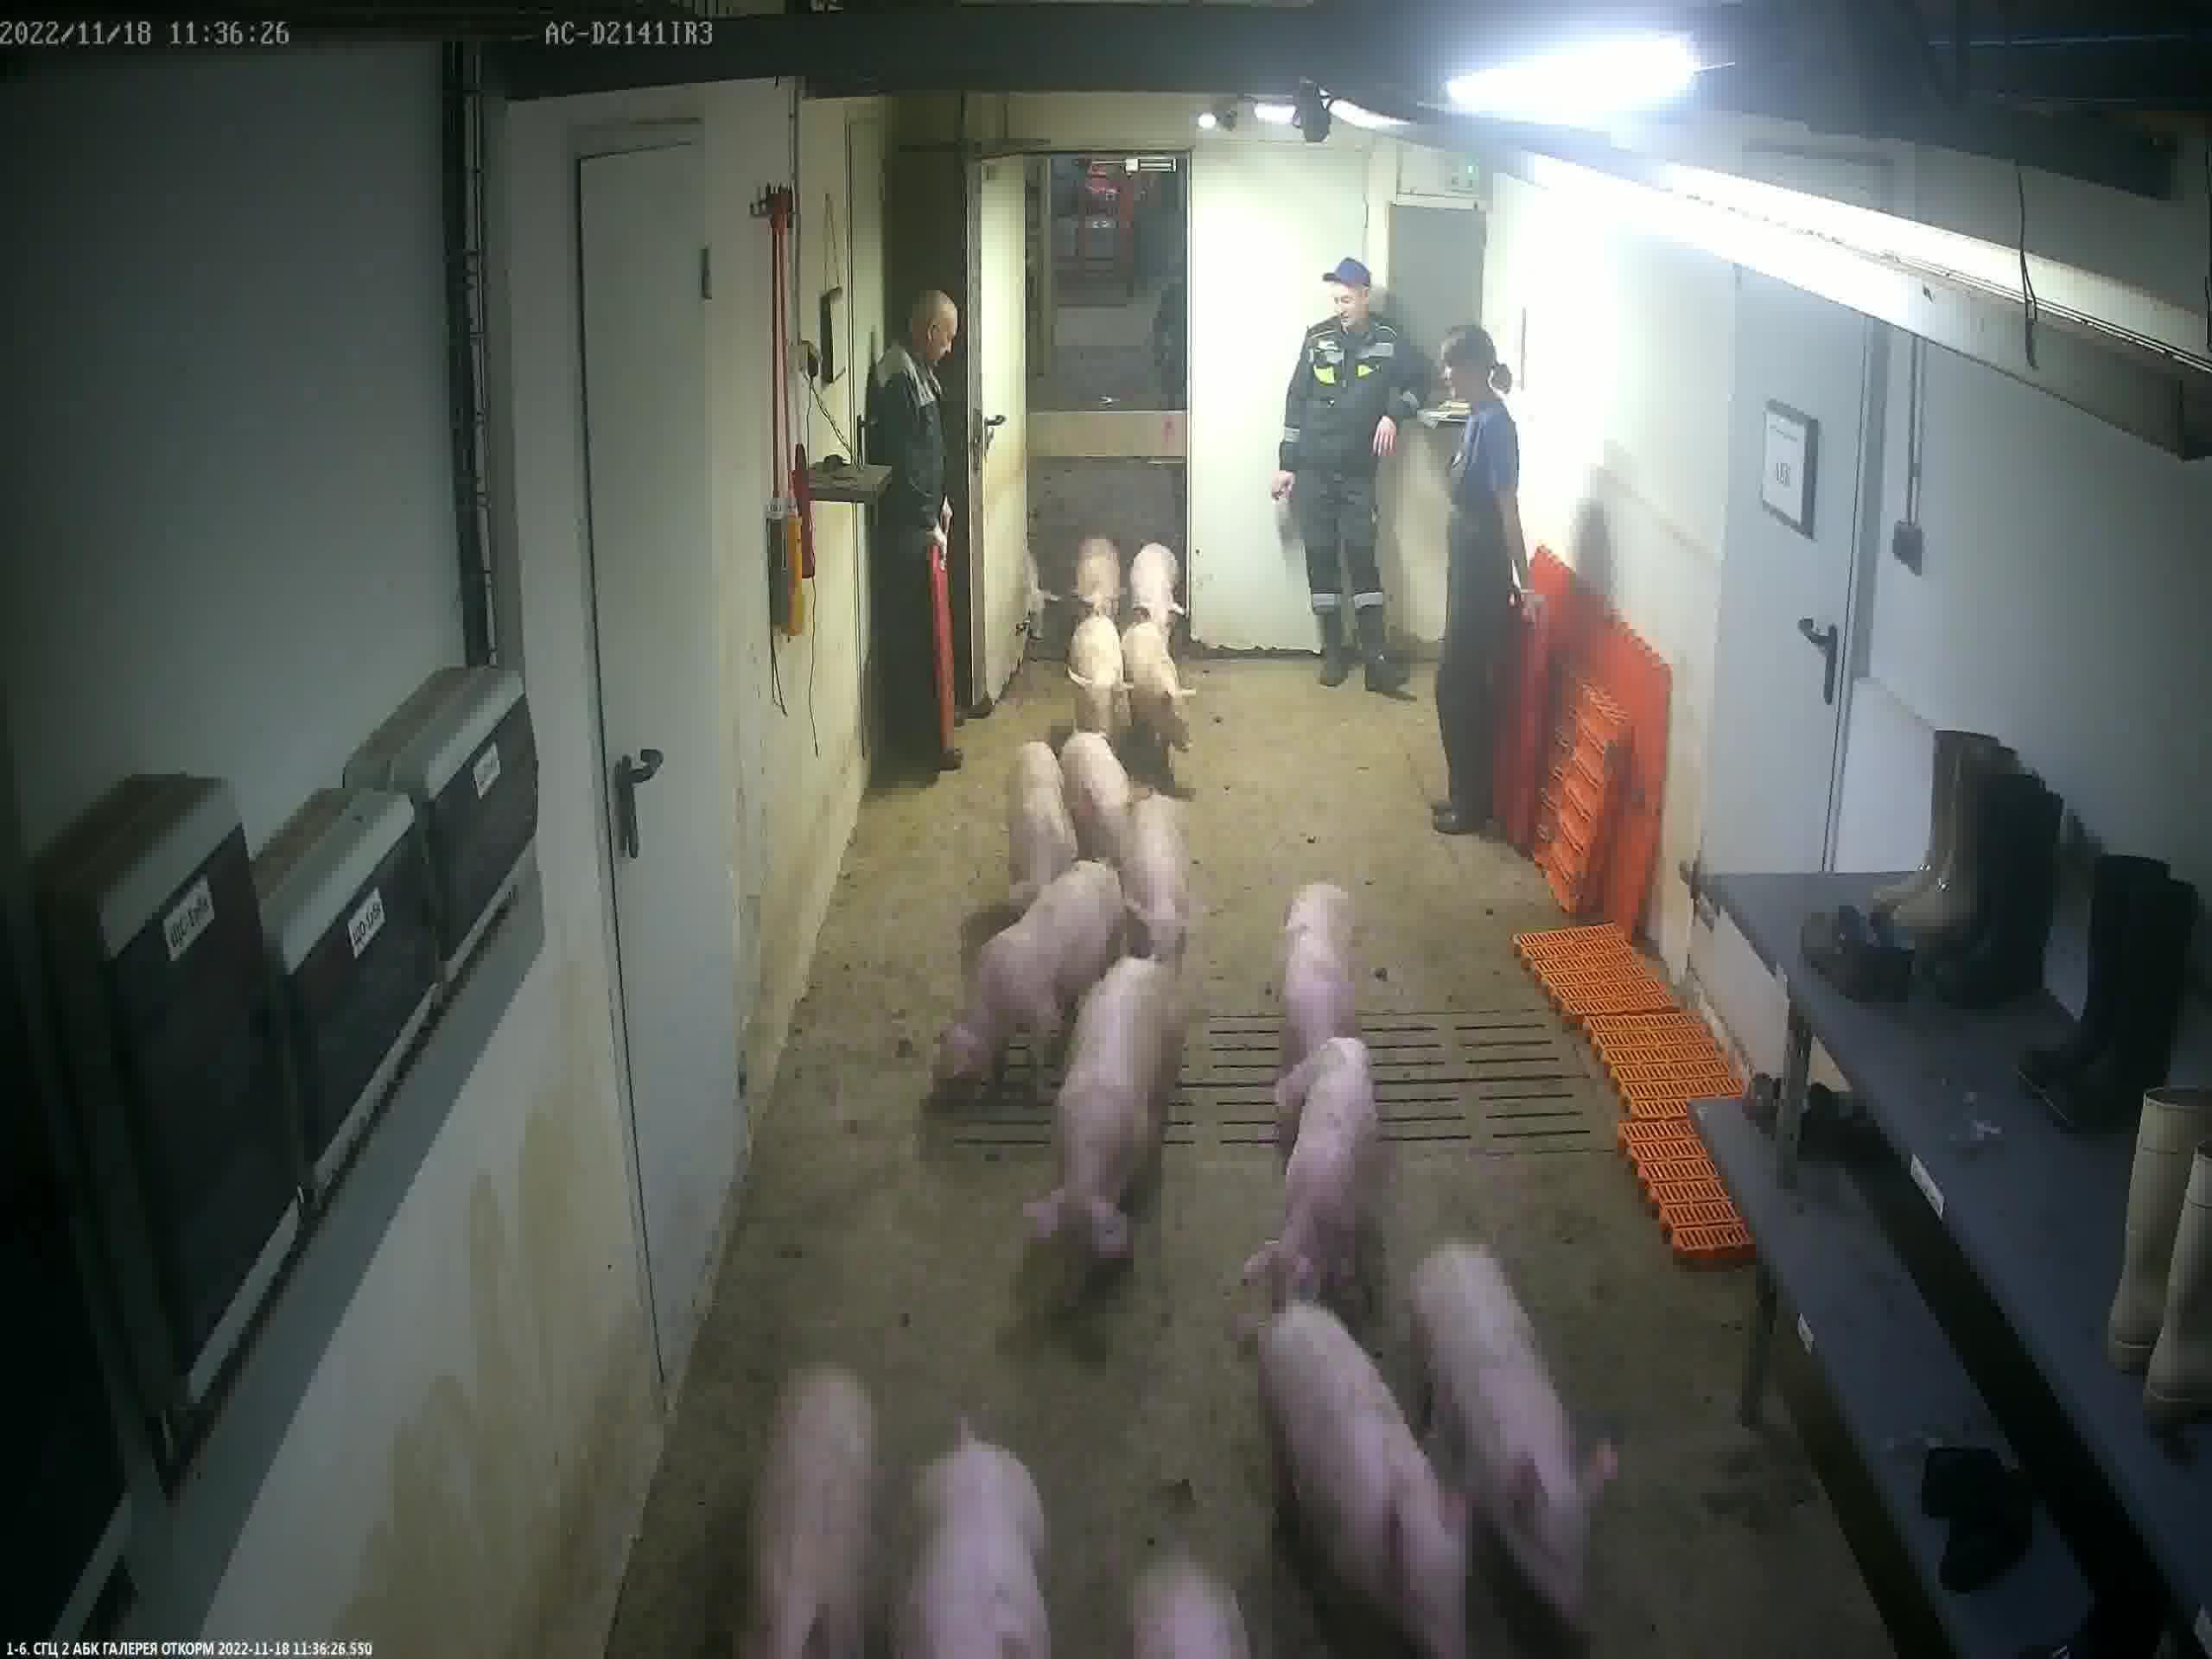Pigs: (1409, 1244, 1615, 1659), (1259, 1307, 1475, 1659), (1026, 950, 1188, 1305), (934, 861, 1151, 1108), (740, 1364, 887, 1659), (1237, 1035, 1376, 1338), (906, 1419, 1054, 1659), (1289, 884, 1362, 1089), (1054, 732, 1139, 884), (1136, 1547, 1251, 1659), (1010, 741, 1076, 892), (1132, 793, 1191, 958), (1125, 620, 1190, 746), (1078, 619, 1120, 734), (1136, 545, 1181, 626), (1078, 540, 1120, 624)
